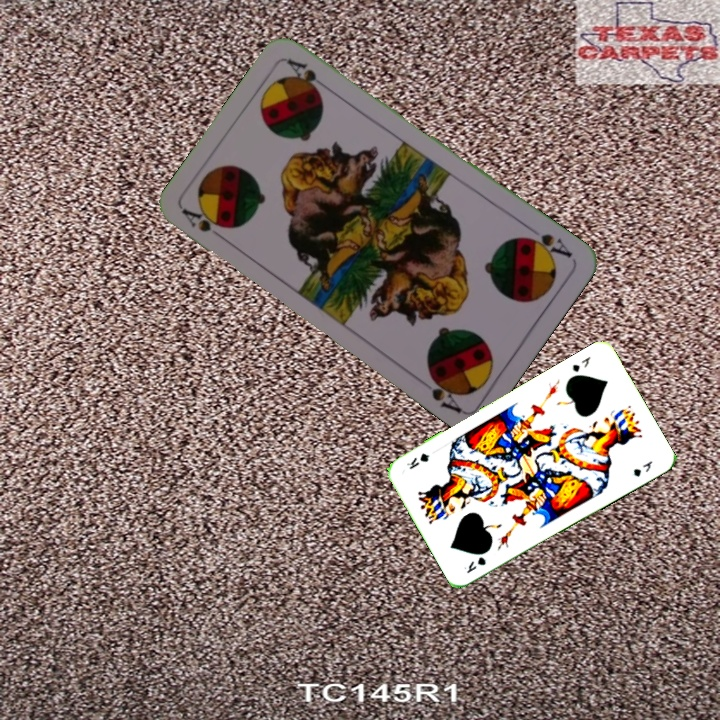GK: (460, 552, 489, 576), (568, 352, 593, 375)
SA: (517, 222, 575, 263), (178, 205, 231, 245)
